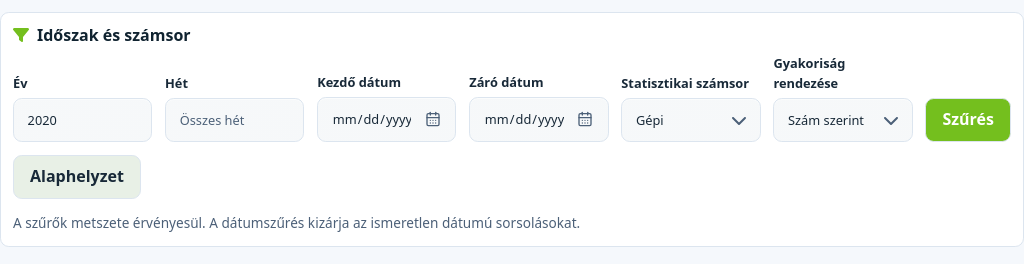
shareable statistics controls › rejects reversed dates and resets all filters
Type "2024-03-01" into the date field labelled "Kezdő dátum". click: (387, 119)
box: [317, 97, 456, 142]
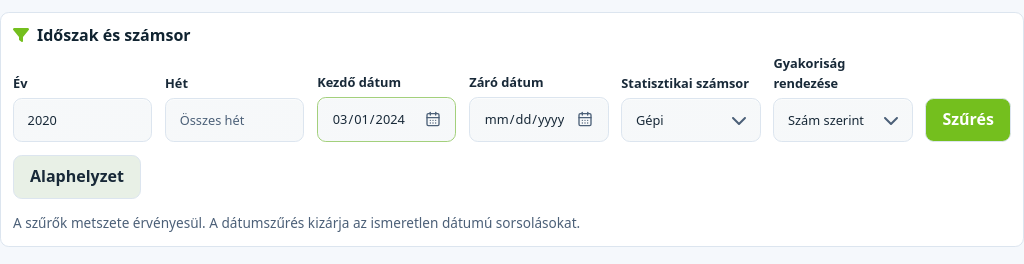
Type "2024-02-29" into the date field labelled "Záró dátum". click: (539, 119)
box: [469, 97, 608, 142]
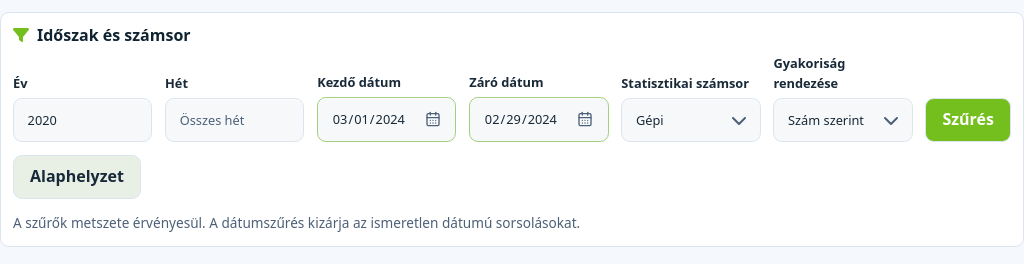
Click the button "Szűrés". click: (968, 120)
box: [926, 98, 1011, 142]
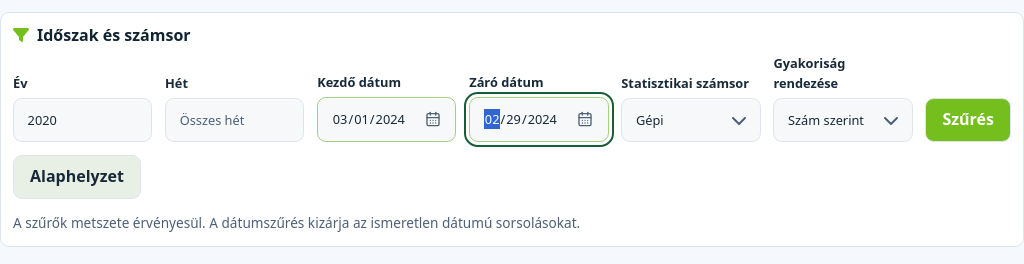
Click the button "Alaphelyzet". click: (77, 177)
box: [13, 155, 141, 199]
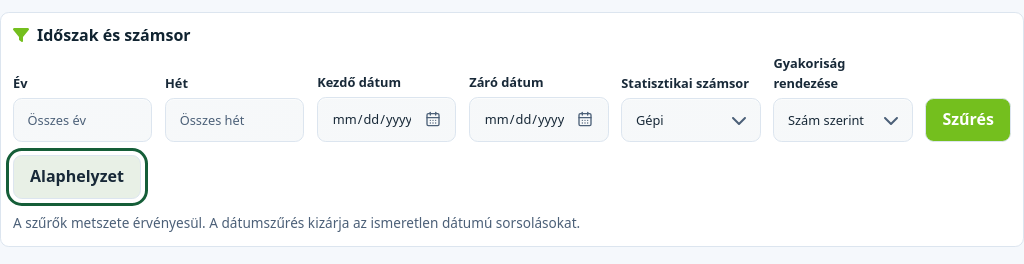
Result: the number field labelled "Év" is not empty at [13, 98, 152, 142]
